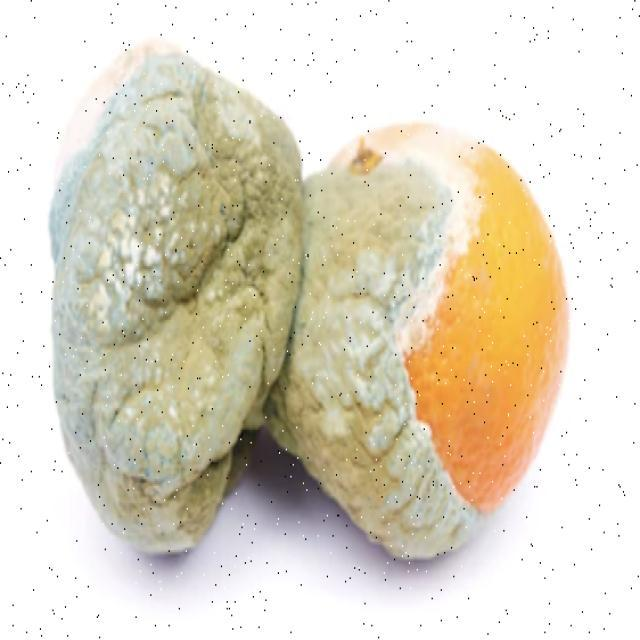sangat-busuk: (270, 125, 567, 555), (51, 47, 304, 550)
